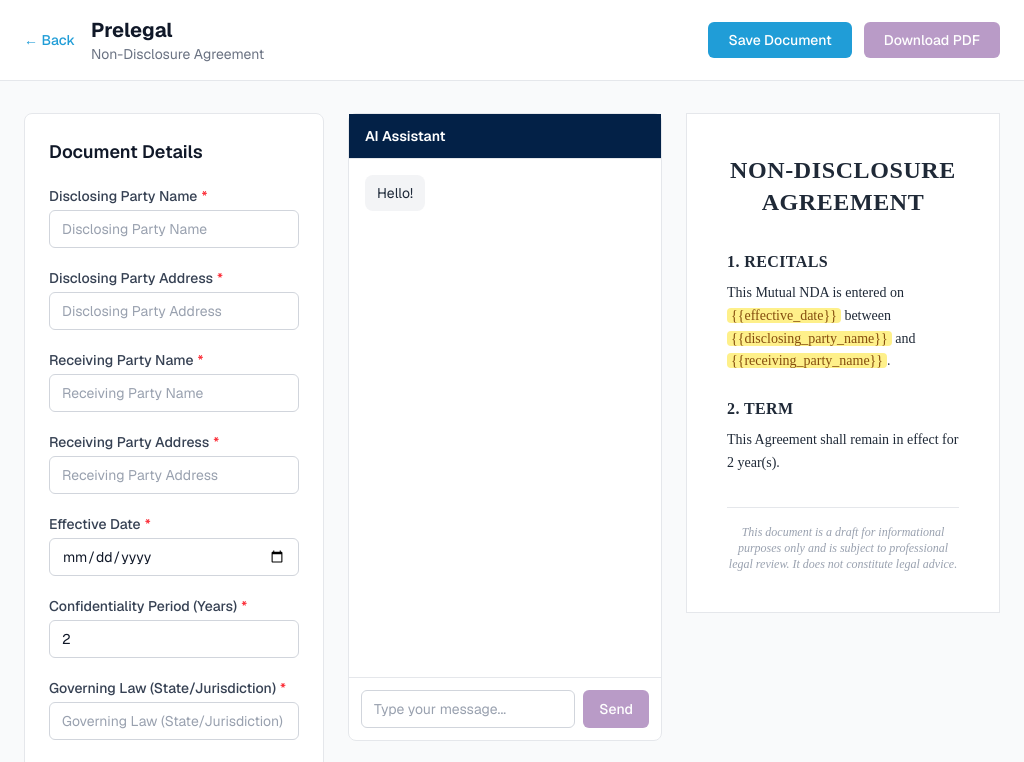
DocumentPage › shows Save failed on error
Click the button "Save Document" at coordinates (780, 40), box [708,22,852,58]
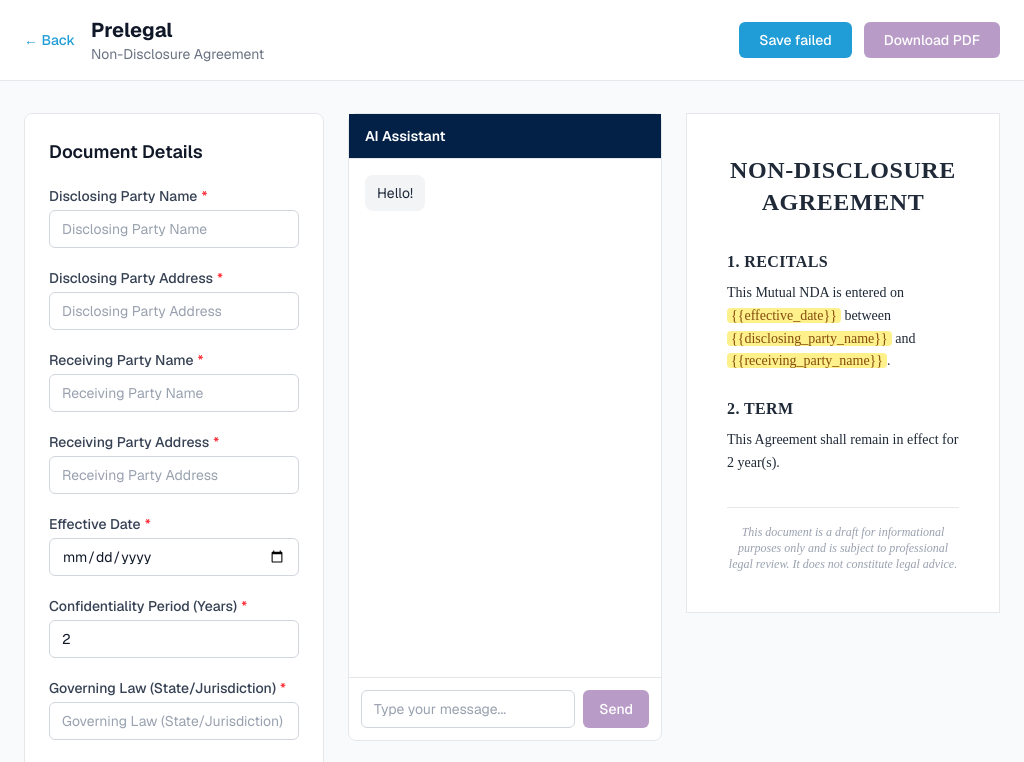
Now the button "Save failed" is shown, box [739,22,852,58]
